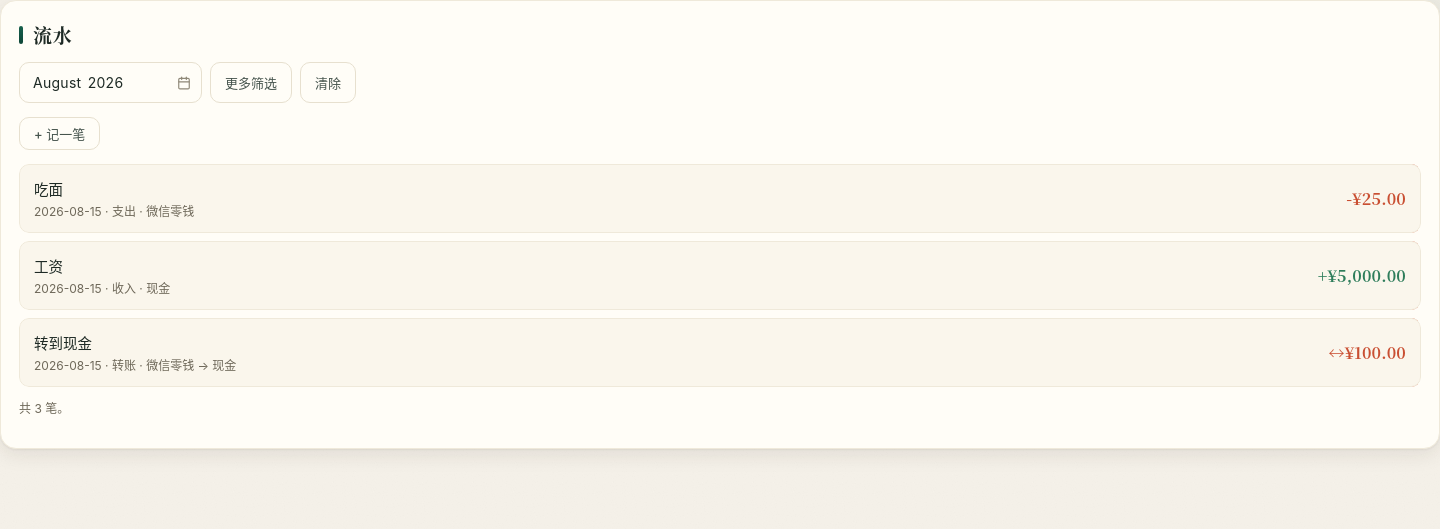
Test case: TxListView 筛选 › 按支付方式筛选：微信零钱命中支出 + 转出
Click the button "更多筛选": click(251, 82) [210, 62, 292, 103]
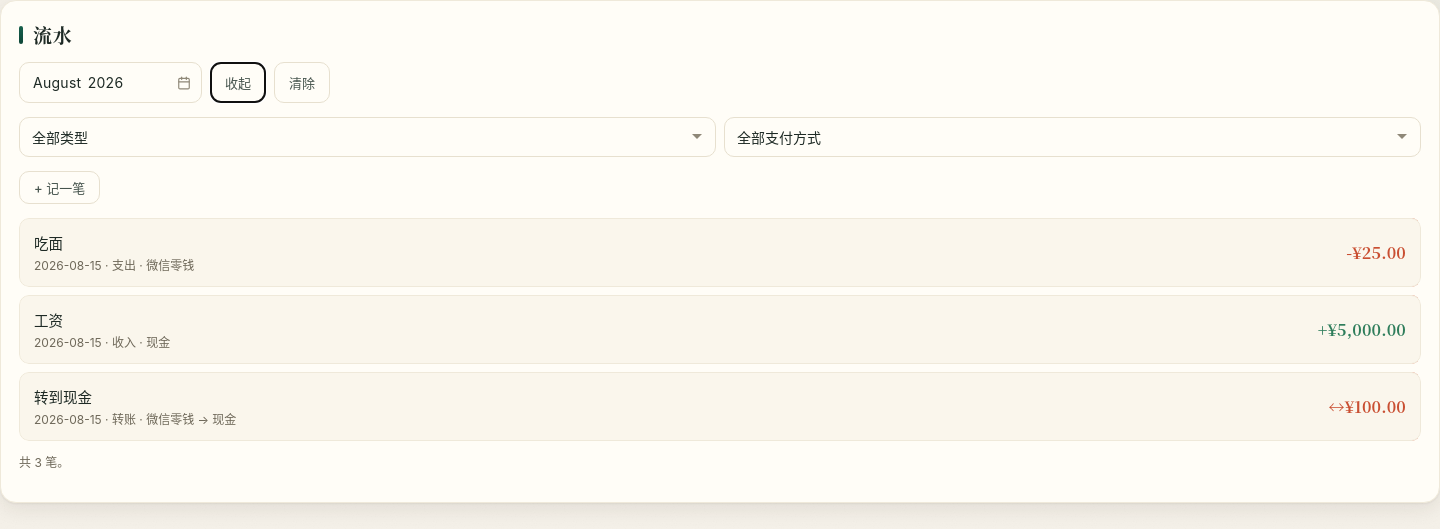
Select "微信零钱" in the dropdown named "支付方式": (1072, 137) [724, 117, 1421, 157]
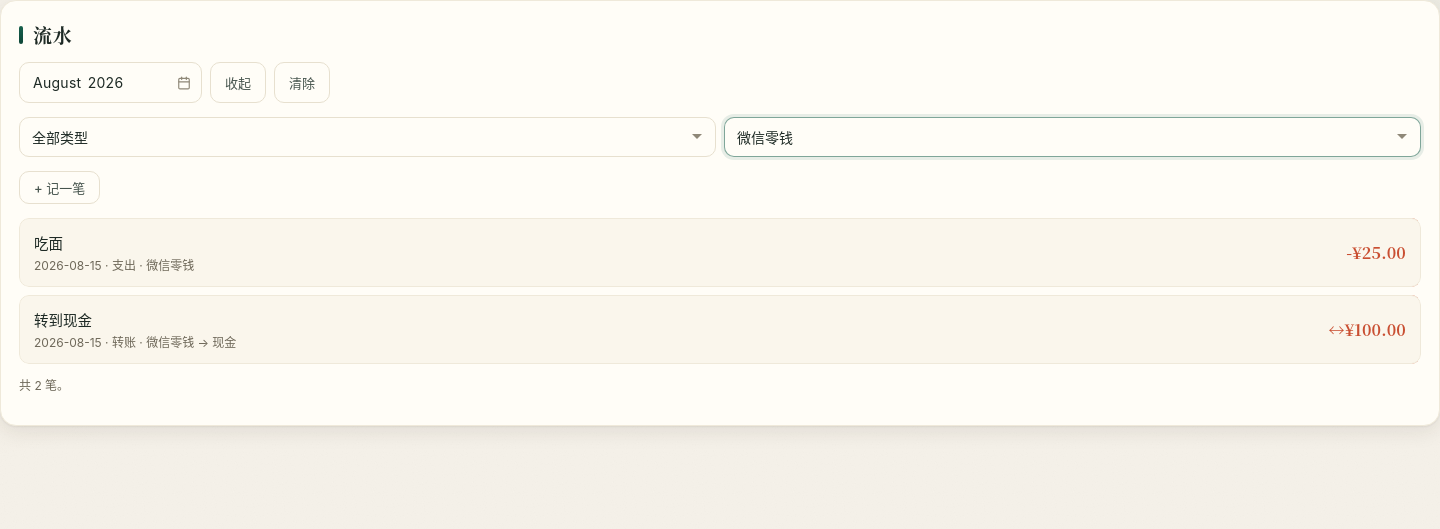
Expected: the text "吃面" is shown, [34, 235, 63, 252]
Result: the text "共 2 笔。" is shown at [19, 378, 69, 393]
Result: the text "工资" is gone
